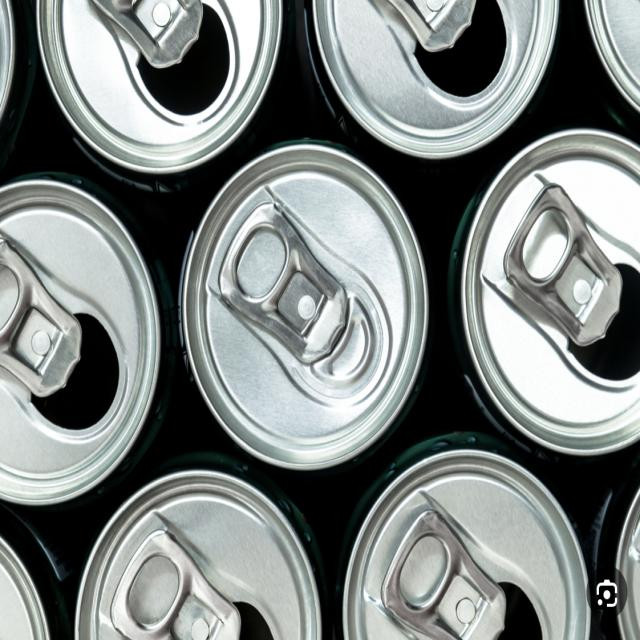can: (174, 137, 429, 480), (442, 112, 638, 473), (325, 412, 615, 640), (0, 158, 157, 532), (76, 458, 331, 640)
